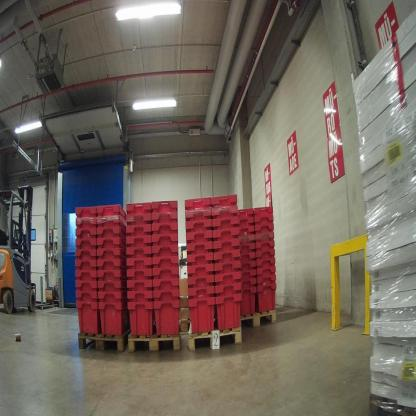forklift: (1, 182, 43, 316)
pallet: (181, 319, 245, 358), (121, 326, 183, 364), (241, 308, 285, 339), (73, 331, 128, 354)
small_load_carrier: (186, 294, 217, 334), (216, 292, 242, 332), (126, 303, 155, 336), (154, 305, 182, 337), (98, 303, 125, 336), (75, 297, 98, 332), (256, 284, 280, 316), (213, 280, 243, 301), (242, 287, 259, 320), (152, 195, 182, 213), (97, 199, 128, 216), (214, 271, 244, 288), (124, 268, 154, 285), (152, 276, 185, 291), (213, 236, 245, 251), (214, 247, 242, 264), (124, 197, 151, 214), (97, 279, 124, 296), (184, 231, 214, 246), (213, 211, 241, 227), (187, 250, 214, 266), (187, 276, 215, 291), (71, 227, 101, 241), (212, 224, 241, 238), (125, 222, 154, 236), (188, 288, 219, 301), (125, 245, 153, 259), (97, 213, 125, 227), (98, 257, 125, 271), (246, 204, 274, 217), (211, 204, 239, 217), (152, 209, 178, 223), (124, 211, 152, 224), (73, 215, 101, 228), (183, 208, 212, 220), (209, 194, 238, 206), (152, 233, 181, 245), (97, 226, 126, 238), (251, 222, 275, 236), (153, 268, 181, 280), (214, 260, 244, 271), (151, 222, 181, 233), (95, 271, 125, 282), (99, 291, 125, 303), (73, 291, 99, 303), (186, 243, 214, 254), (185, 220, 213, 231), (125, 290, 153, 301), (125, 235, 153, 246), (185, 194, 212, 205), (153, 255, 180, 266), (124, 279, 153, 289), (98, 247, 127, 257), (152, 245, 180, 255), (71, 241, 96, 252), (258, 275, 279, 288), (75, 204, 97, 216), (73, 260, 97, 271), (152, 290, 181, 299), (125, 259, 153, 268), (186, 268, 216, 276), (97, 239, 127, 247), (257, 232, 275, 245), (73, 282, 99, 291), (255, 248, 276, 259), (240, 242, 257, 255), (255, 239, 275, 250), (254, 213, 278, 222), (256, 266, 277, 276), (75, 271, 97, 280), (238, 224, 255, 235), (74, 252, 96, 260), (243, 261, 256, 274), (241, 279, 258, 288), (258, 258, 276, 266), (237, 208, 255, 216), (238, 235, 257, 242), (241, 269, 254, 279), (237, 215, 255, 220), (239, 255, 256, 259)
